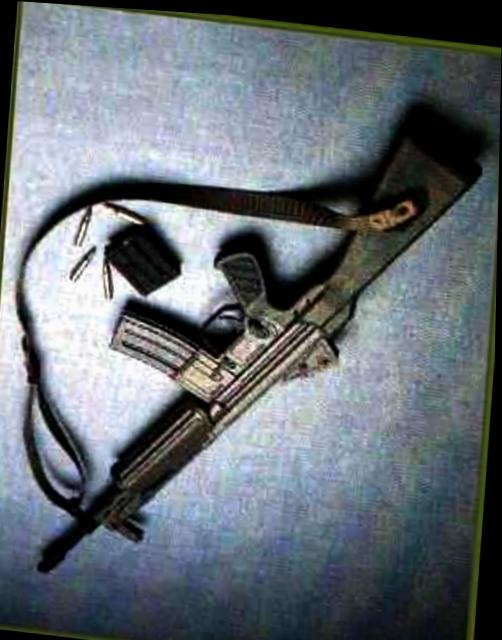rifle: (17, 42, 493, 636)
